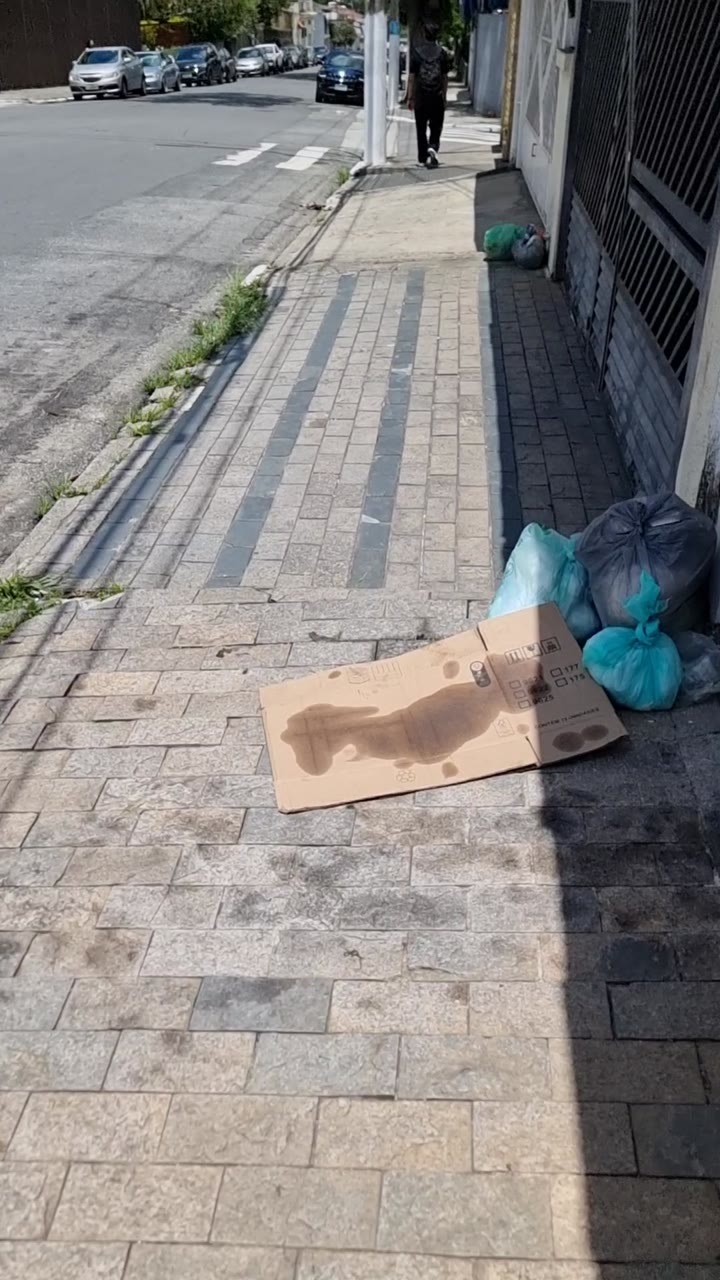obstaculo: (577, 493, 716, 633), (489, 524, 600, 644), (483, 223, 526, 261), (513, 225, 547, 270)
